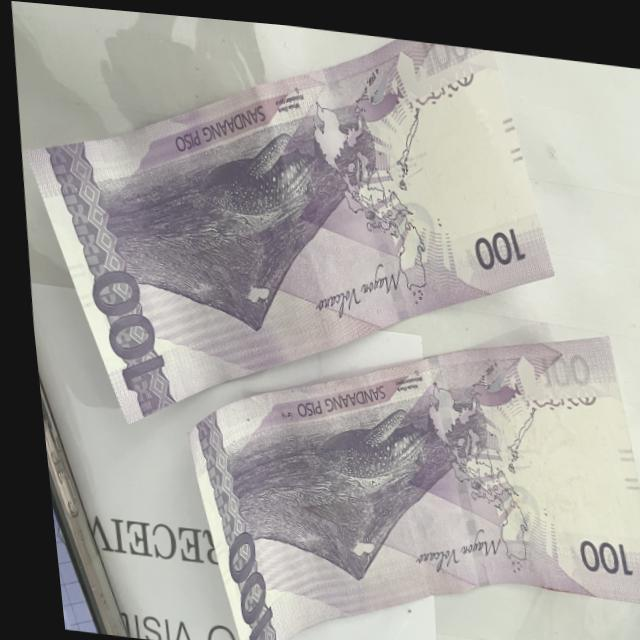100_whale: (172, 114, 348, 243), (289, 381, 453, 496)
100_whale_watermark: (337, 47, 419, 129), (448, 347, 522, 407)
watermark: (501, 366, 631, 554)
